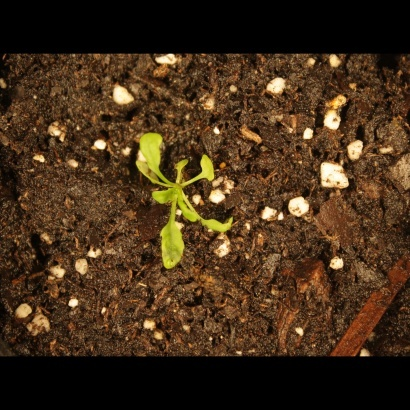leaf: (157, 222, 190, 277), (138, 128, 173, 170), (196, 151, 225, 186), (201, 213, 237, 237), (151, 184, 178, 207), (179, 199, 202, 224), (127, 159, 150, 182), (170, 153, 193, 176)
